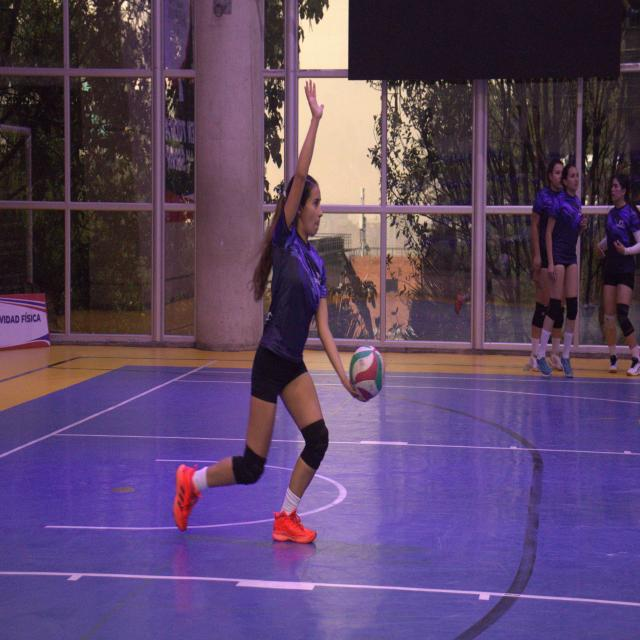volleyball: (351, 345, 385, 401)
